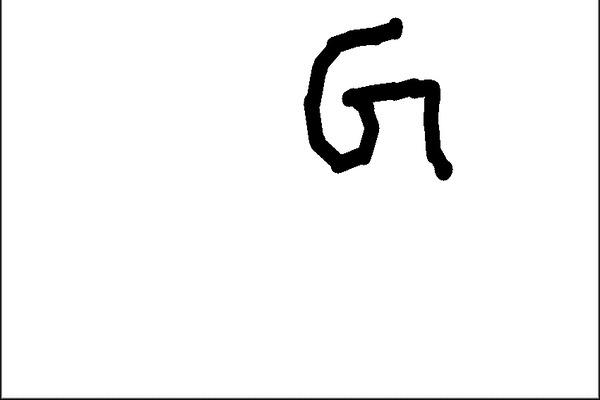G: (298, 14, 457, 183)
